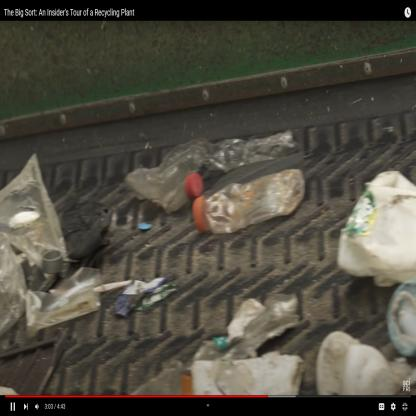Glass Bottle: (192, 166, 307, 235), (126, 164, 204, 212)
